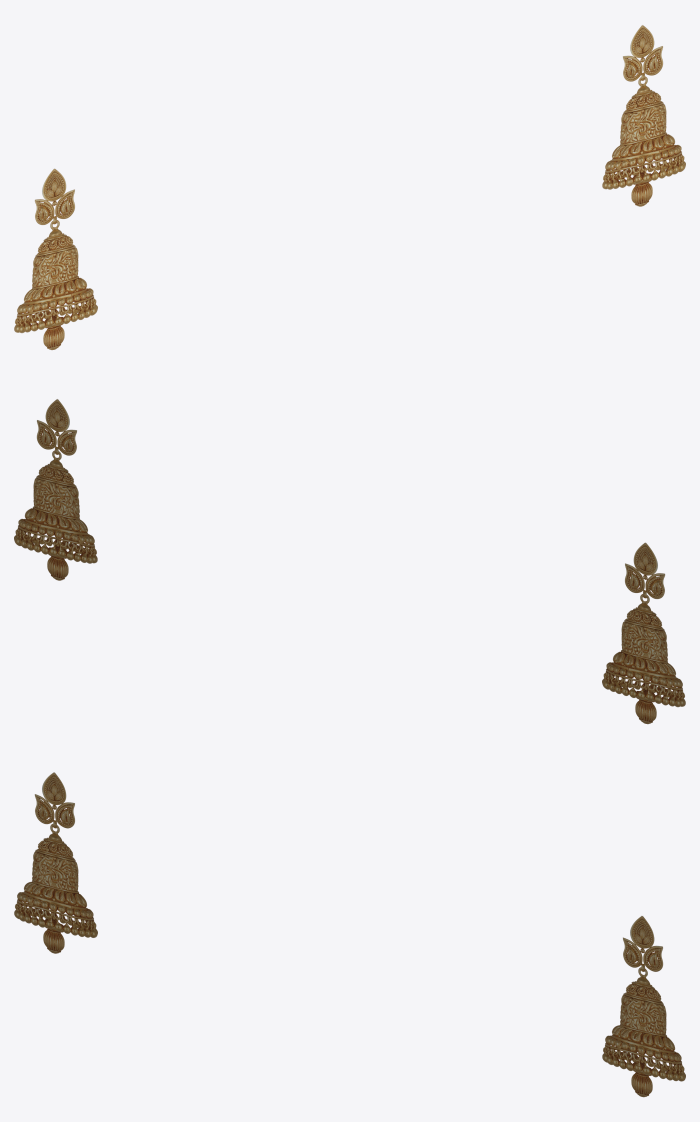
File: gold-jhumka.glb
3 views of the same model, one above another, from view 1: azimuth 30°, elevation 25°; view 2: azimuth 150°, elevation 25°; view 3: azimuth 330°, elevation 25° (orthographic).
Visible parts, largest first — view 1: JewelryEarPositiveX, JewelryEarNegativeX; view 2: JewelryEarPositiveX, JewelryEarNegativeX; view 3: JewelryEarPositiveX, JewelryEarNegativeX.
Part boxes in pixels (x1=…): JewelryEarPositiveX: x1=602, y1=25, x2=685, y2=206; JewelryEarNegativeX: x1=14, y1=168, x2=97, y2=350; JewelryEarPositiveX: x1=14, y1=399, x2=97, y2=580; JewelryEarNegativeX: x1=602, y1=542, x2=685, y2=724; JewelryEarPositiveX: x1=602, y1=916, x2=685, y2=1097; JewelryEarNegativeX: x1=14, y1=772, x2=97, y2=953.
Size of the model in its own units: 0.1783 by 0.046 by 0.
Materials: 1 (1 with a texture image).
